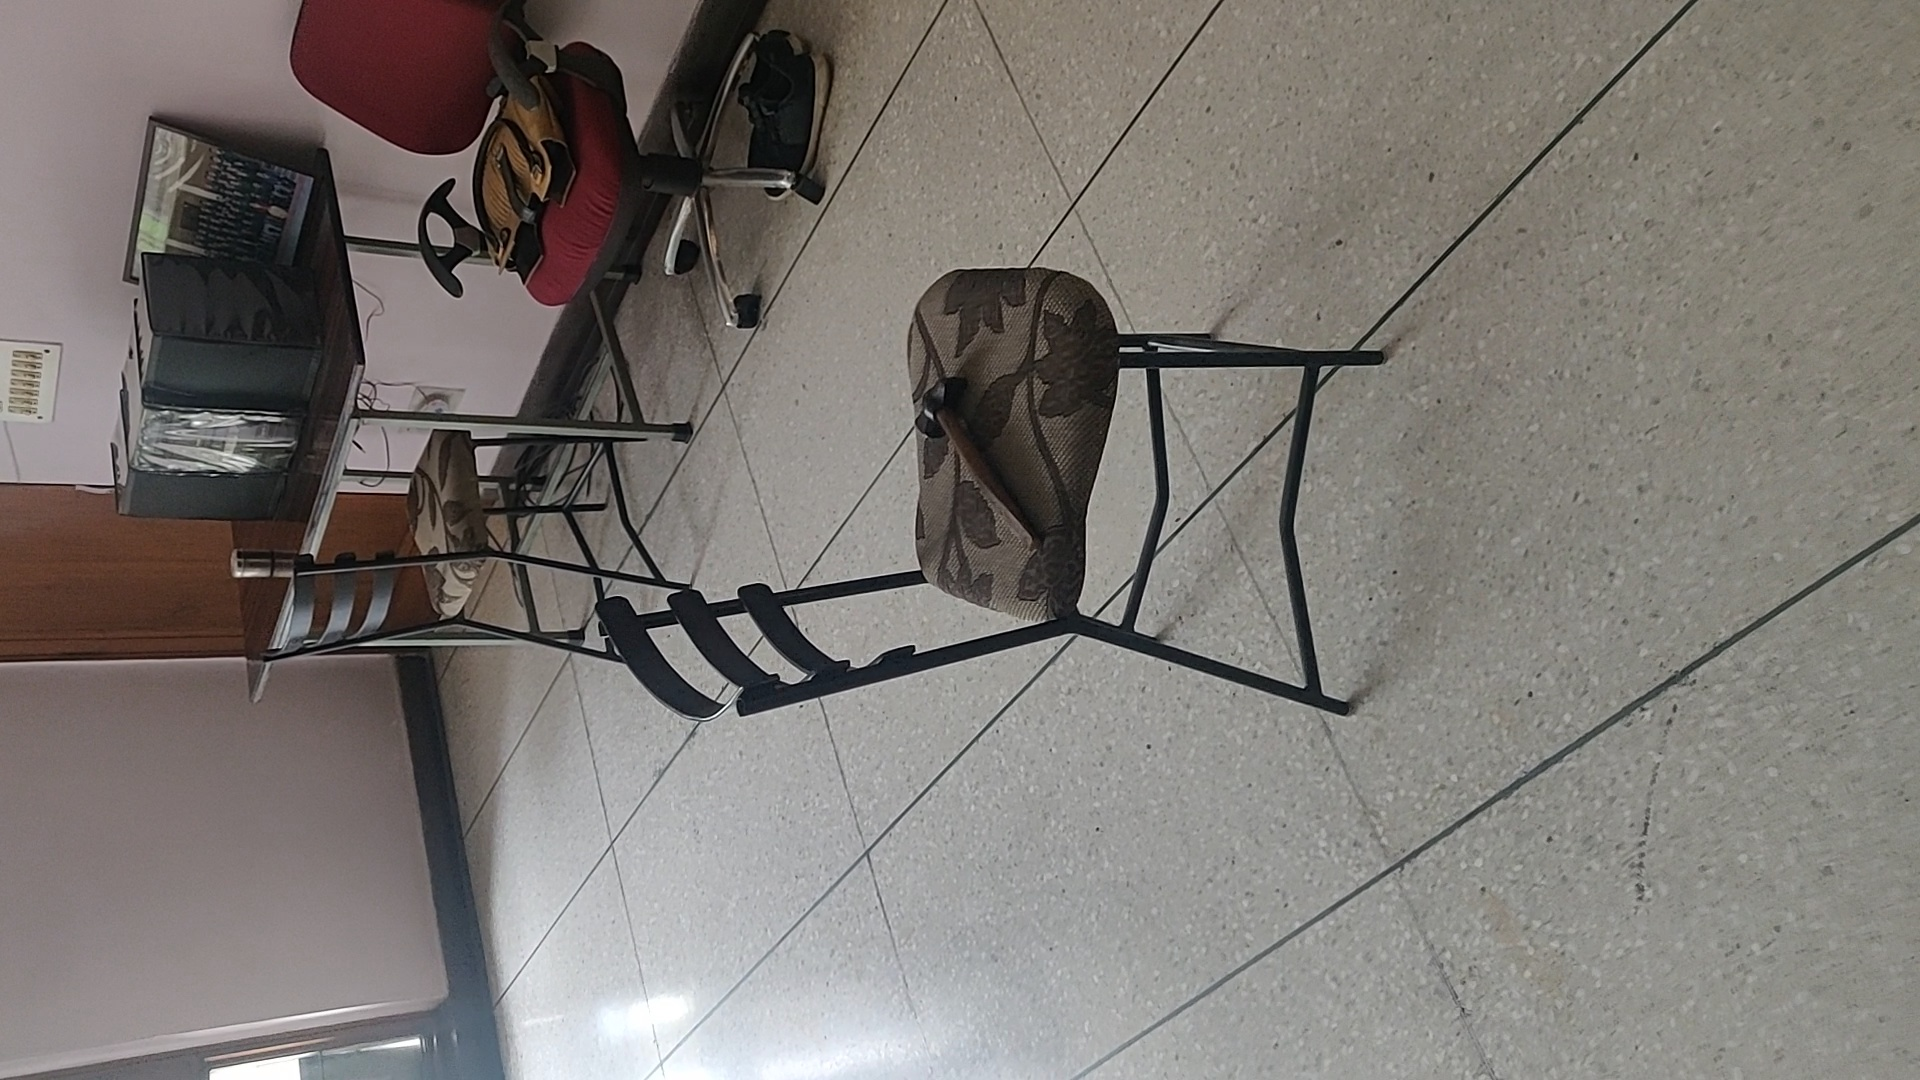hammer: (915, 375, 1036, 549)
